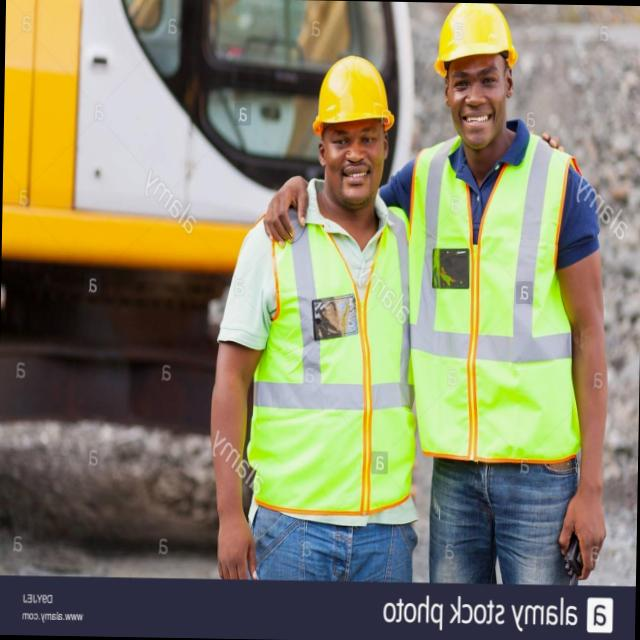helmet: (302, 48, 398, 140), (428, 2, 526, 84)
vest: (408, 123, 584, 463), (244, 185, 412, 540)
